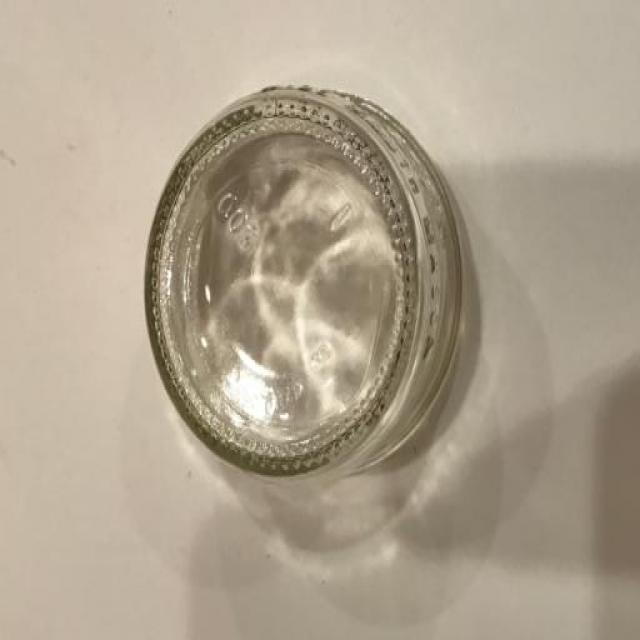glass: (129, 77, 545, 503)
